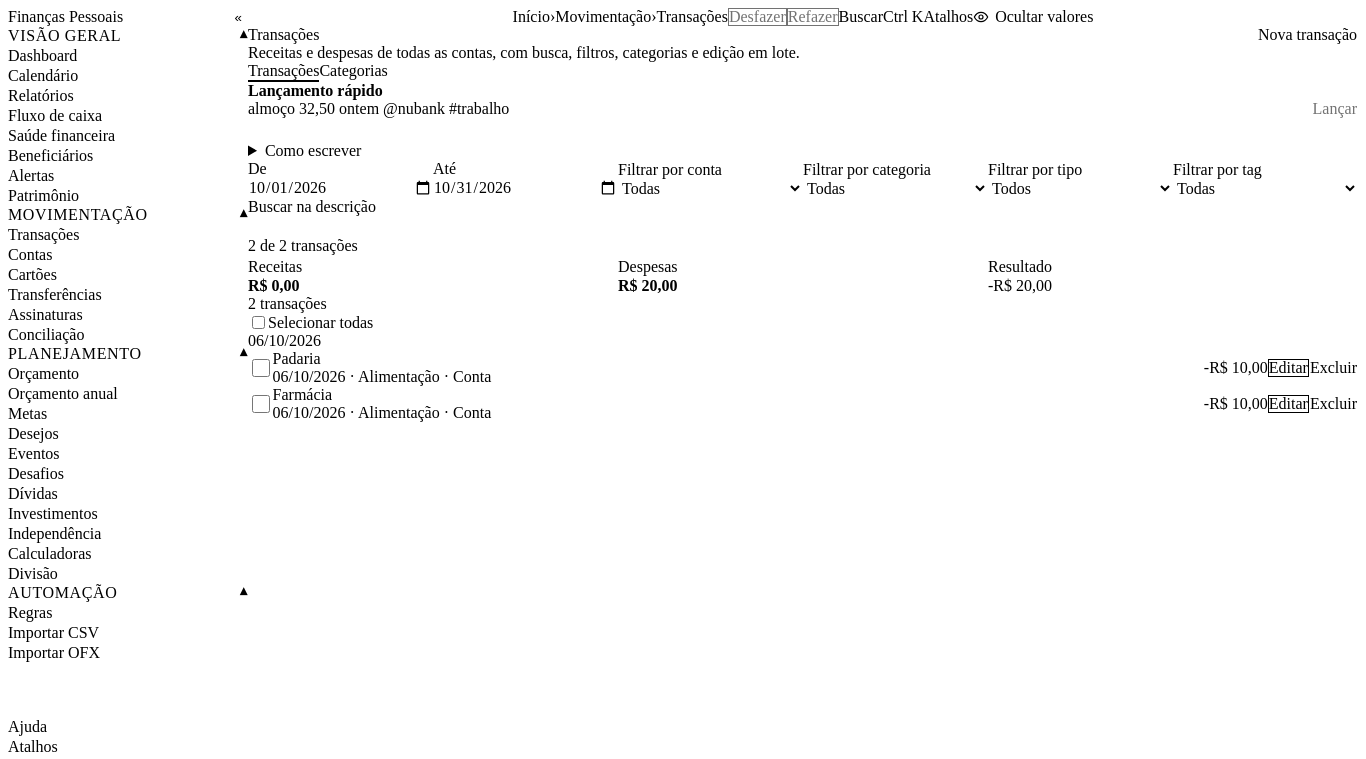
redesenho de Transações: cabeçalho, filtros e abas › critério 3: Limpar filtros só aparece com filtro ativo e volta ao padrão
The image size is (1366, 759).
Expected: the button "Limpar filtros" is not shown
In the field labelled "Buscar na descrição": [340, 225] box [248,216,433,234], type "zzz"
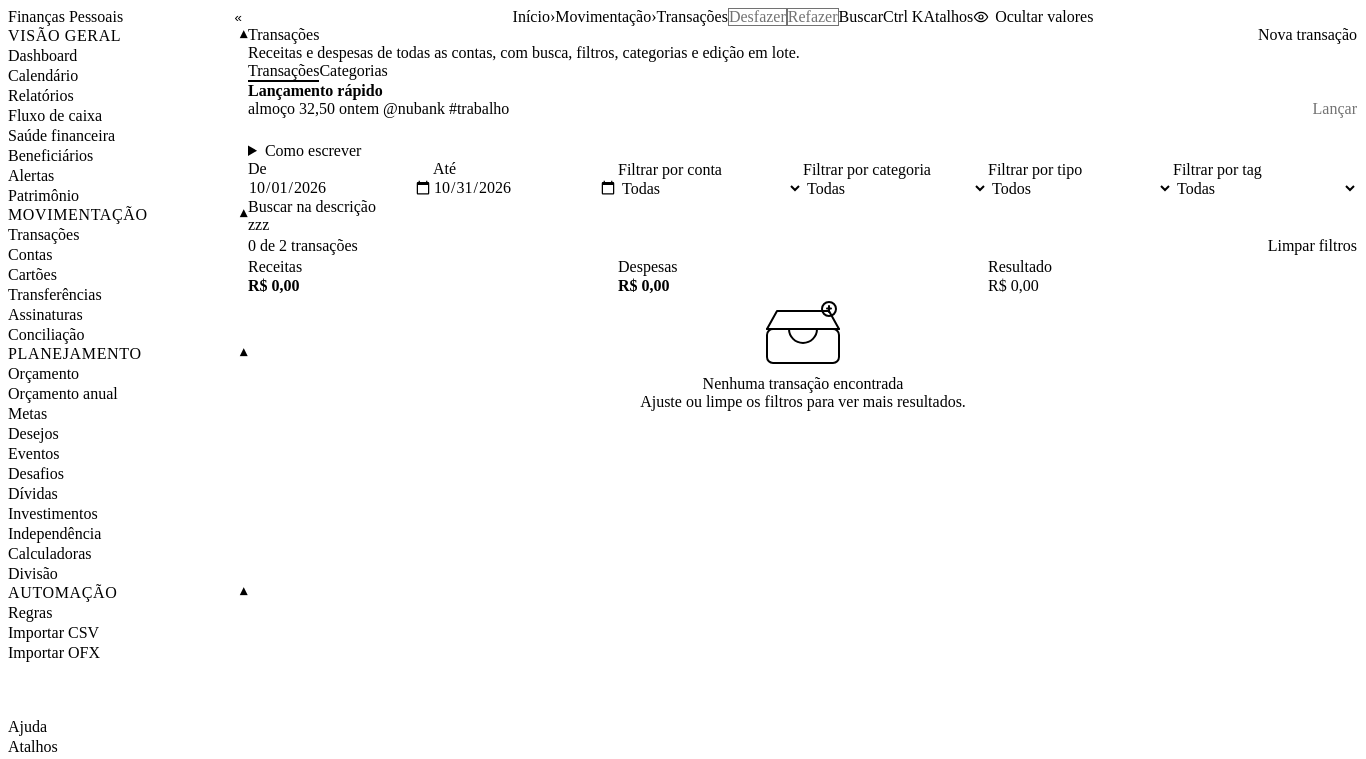
Result: the text "Nenhuma transação encontrada" is shown at [703,375,903,393]
Click the button "Limpar filtros": [1312, 246] box [1267,237,1358,255]
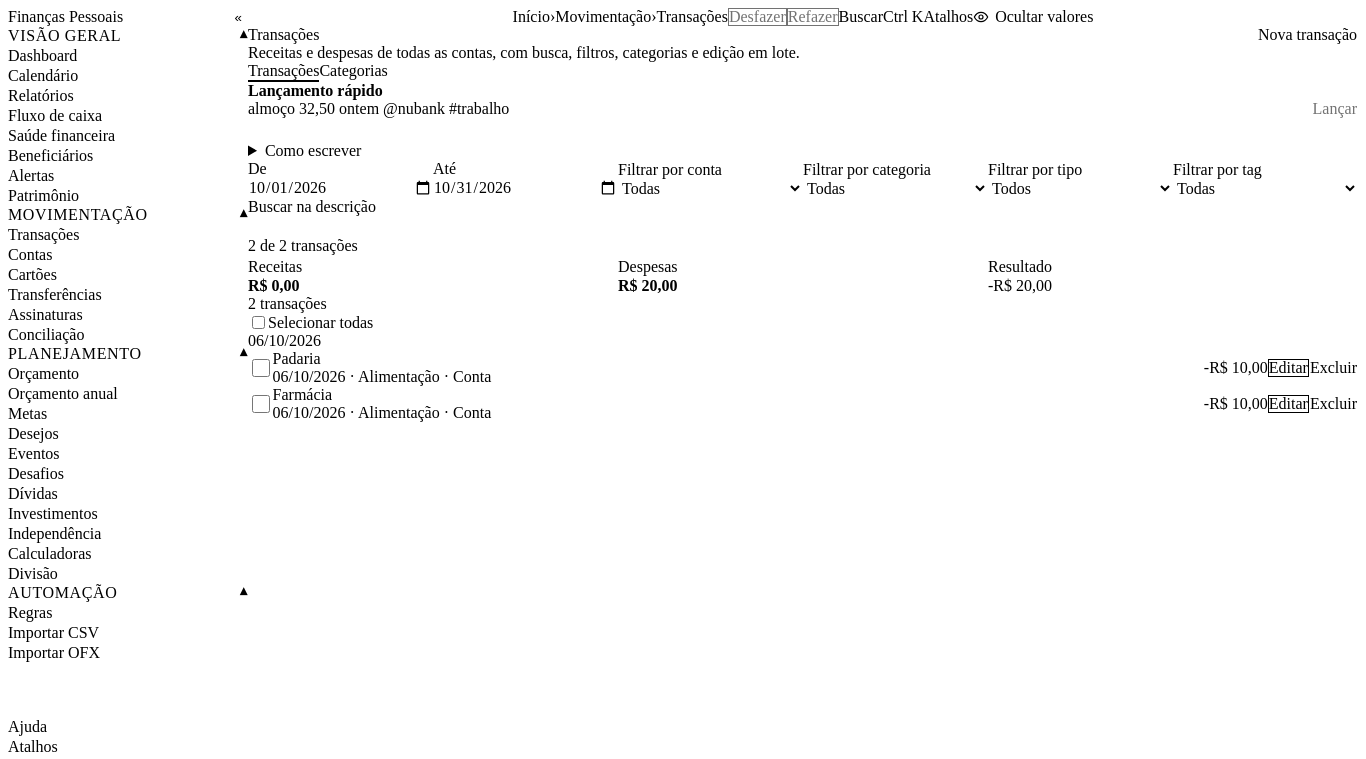
Result: the field labelled "Buscar na descrição" is empty at [248,216,433,234]
Result: the button "Limpar filtros" is gone
Result: the text "Padaria" is shown at [273,350,321,367]
